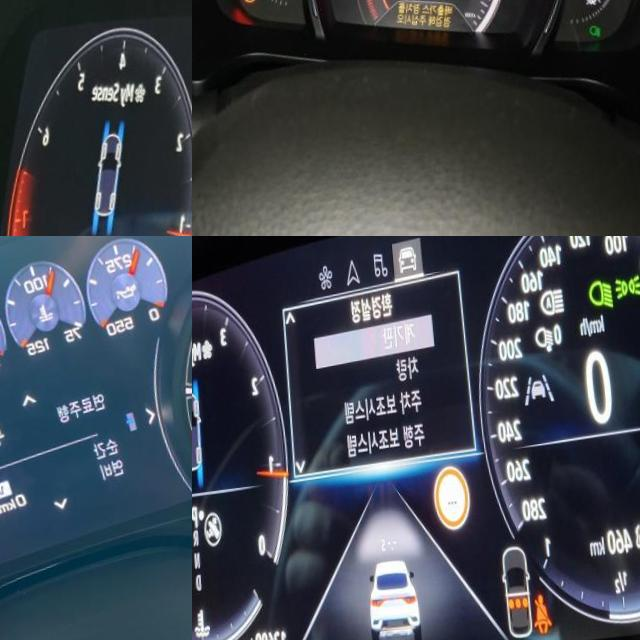Low beam: (584, 291, 610, 326), (583, 37, 597, 52)
SideLamp: (611, 288, 639, 314)
